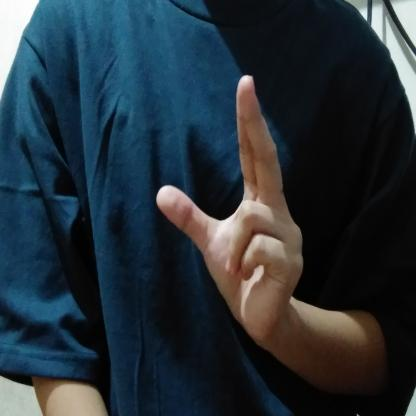who: (151, 72, 307, 360)
